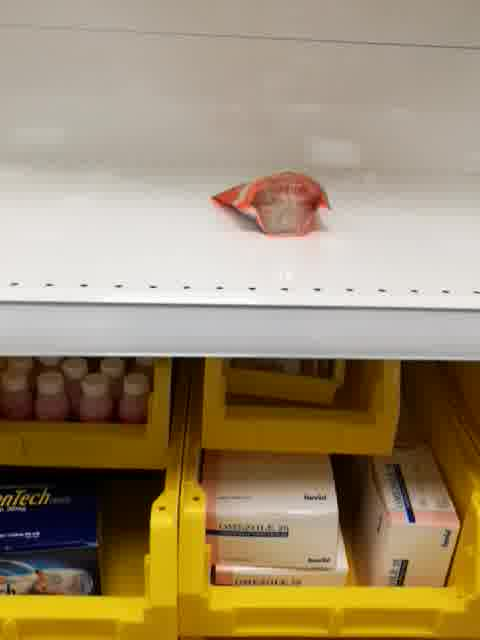whitechia: (210, 171, 331, 239)
